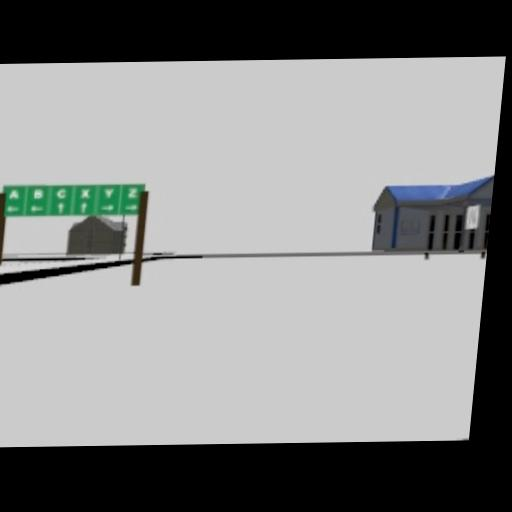A: (9, 188, 20, 199)
B: (34, 189, 45, 199)
C: (57, 188, 68, 200)
Left: (6, 204, 20, 215), (29, 205, 44, 214)
Right: (100, 202, 114, 212), (123, 203, 138, 212)
Straight: (78, 200, 88, 215), (56, 201, 66, 214)
X: (80, 186, 91, 199)
Y: (103, 188, 114, 199)
Z: (128, 187, 139, 199)
